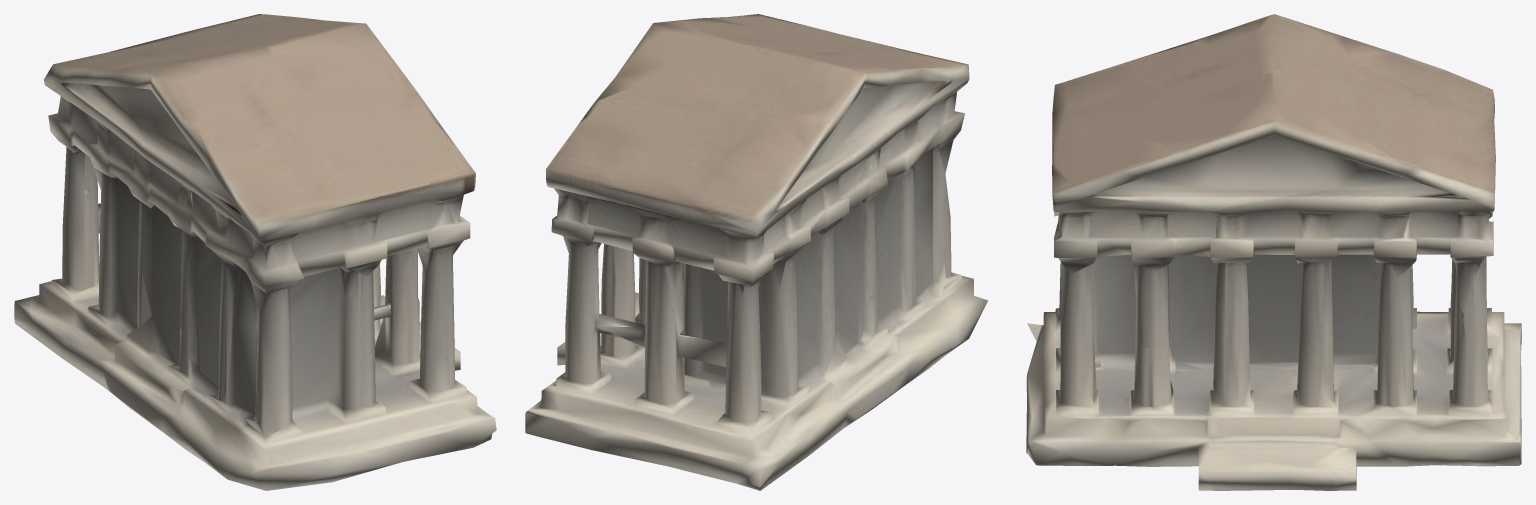
Rendered from parthenon.glb.
3 renders of one model, left to right at view 1: azimuth 30°, elevation 25°; view 2: azimuth 150°, elevation 25°; view 3: azimuth 270°, elevation 25°, orthographic. The views are drawn at different scales.
Parts seen in each view (by area): view 1: tripo_node_59f3622a-4cf0-4588-85f8-52330e2073bf; view 2: tripo_node_59f3622a-4cf0-4588-85f8-52330e2073bf; view 3: tripo_node_59f3622a-4cf0-4588-85f8-52330e2073bf.
Part boxes in pixels (bbox=[...]): tripo_node_59f3622a-4cf0-4588-85f8-52330e2073bf: bbox=[14, 14, 496, 490]; tripo_node_59f3622a-4cf0-4588-85f8-52330e2073bf: bbox=[525, 14, 987, 490]; tripo_node_59f3622a-4cf0-4588-85f8-52330e2073bf: bbox=[1026, 14, 1521, 490].
Bounding box in the file's own units: 0.6882 × 0.7605 × 1.
1 material, 1 textured.
